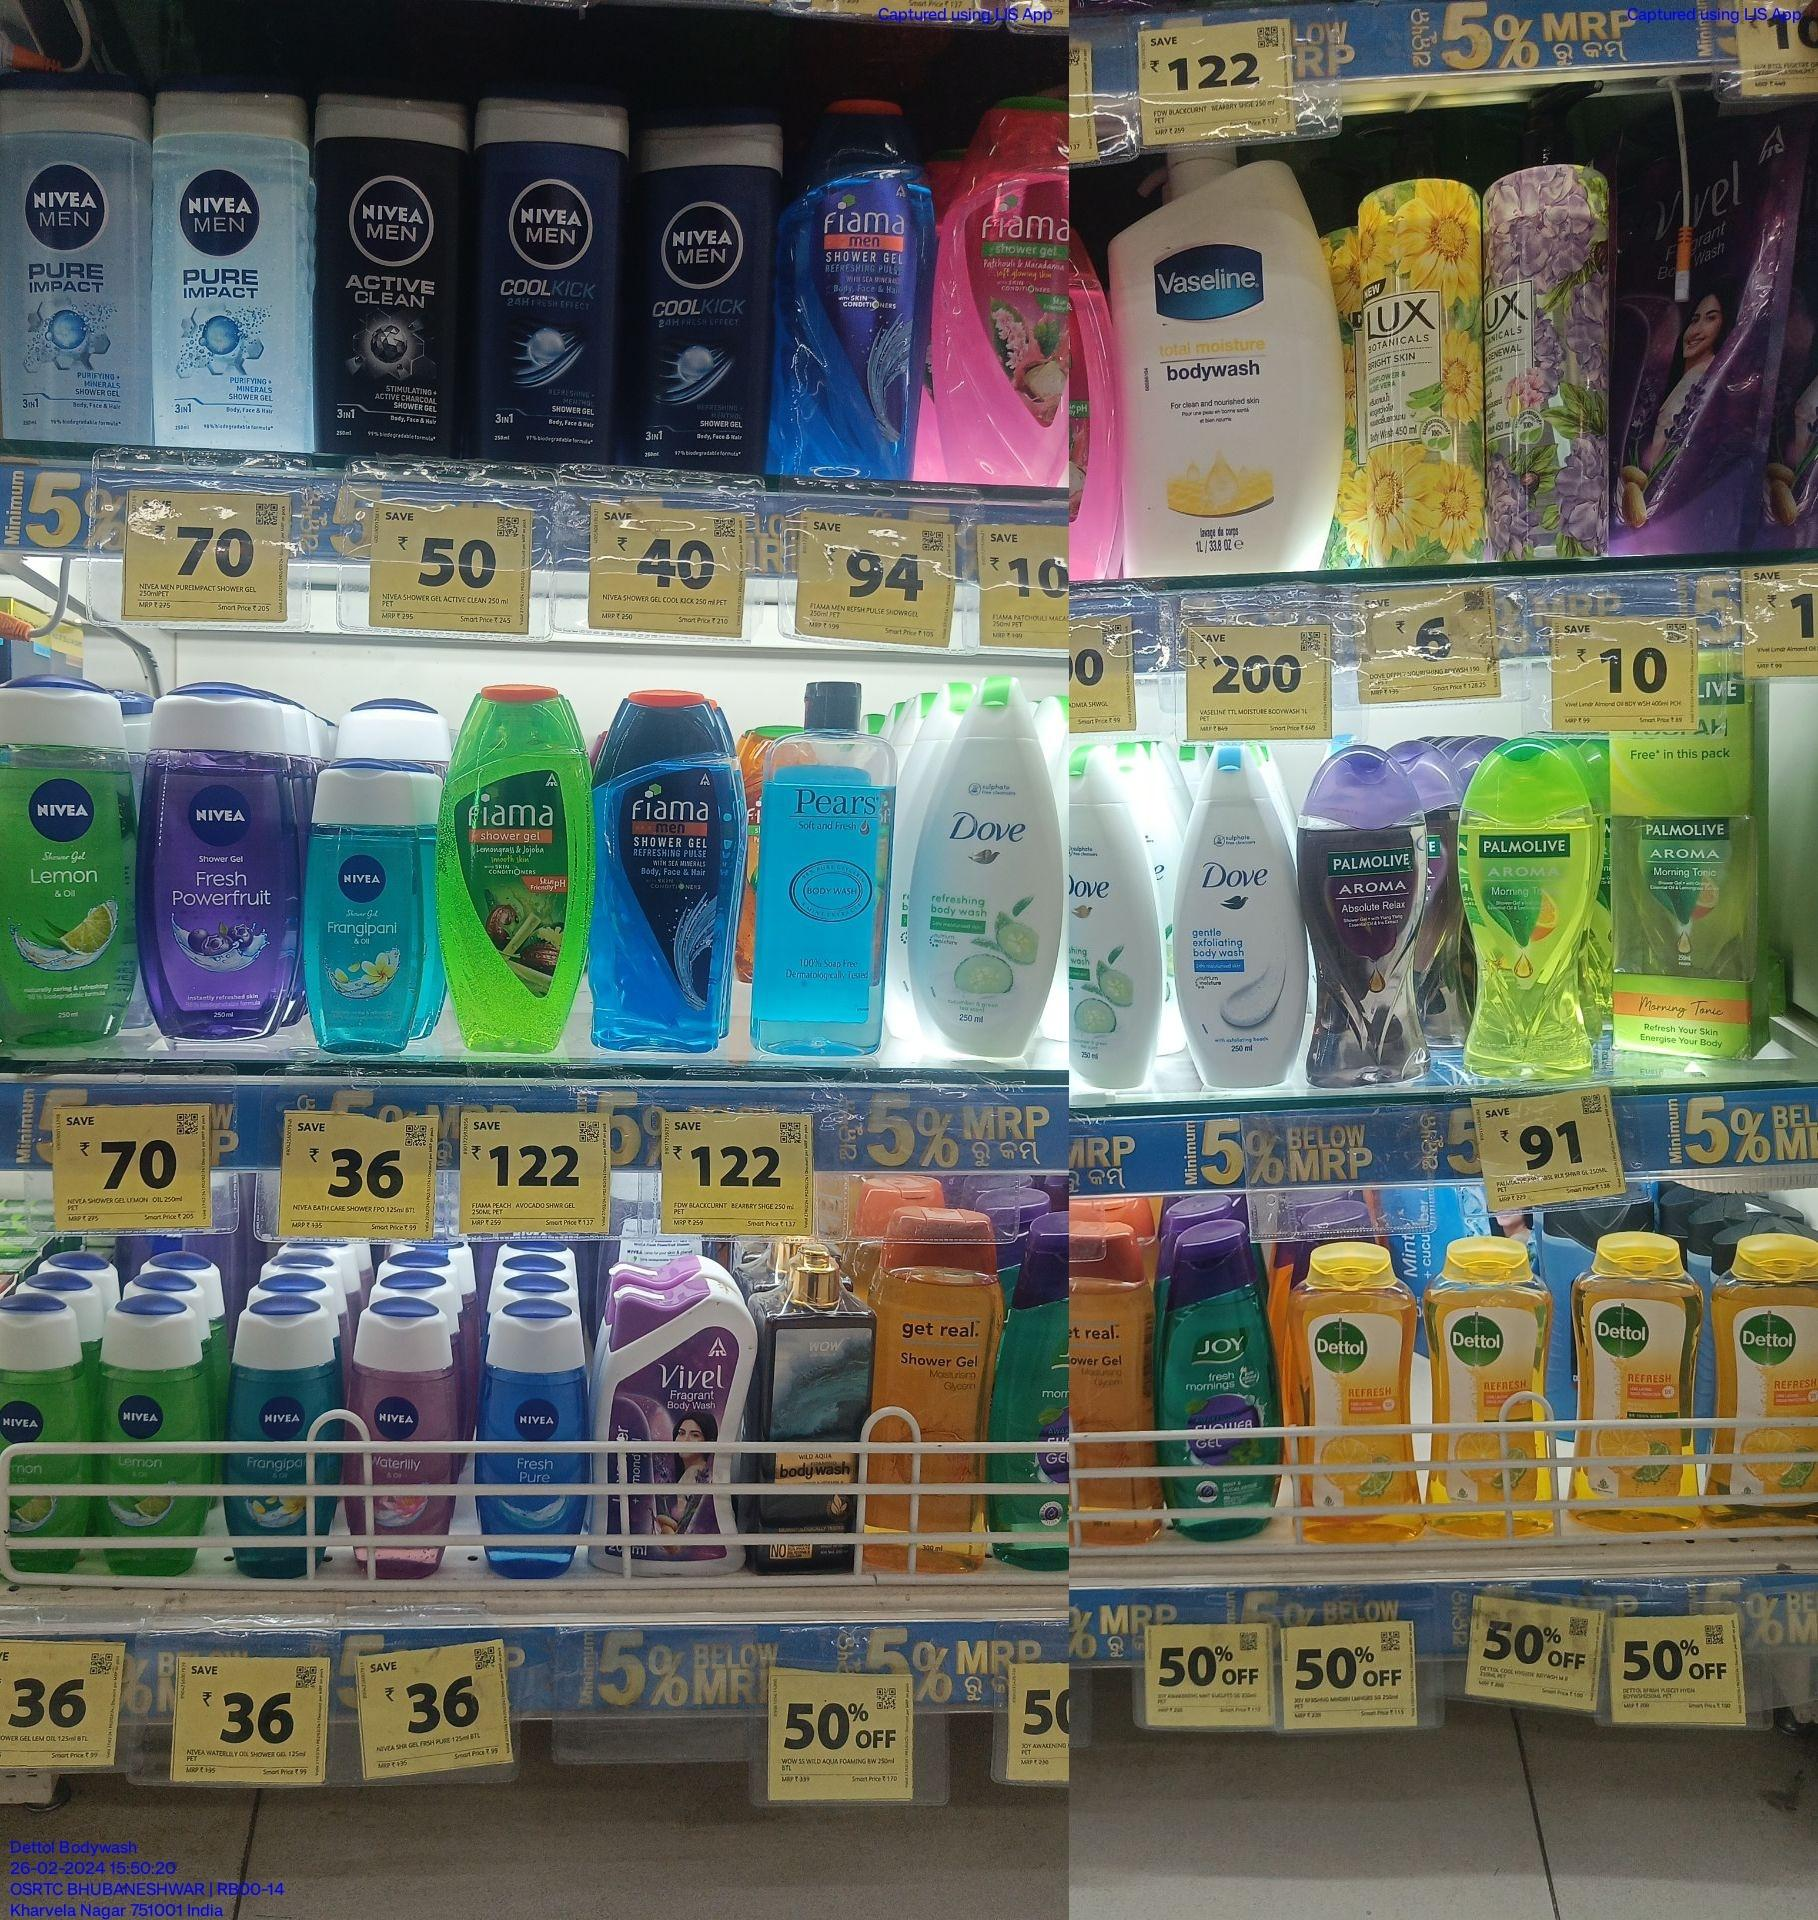Dove_Gentle_Exfoliating_Body_Wash_250ML: (1176, 741, 1300, 1090)
Dove_Refreshing_Body_Wash_250ML: (919, 675, 1049, 1057), (1070, 743, 1164, 1092)
Fiama_Shower_Gel_Lemongrass_and_Jojoba_250ML: (443, 680, 588, 1057)
Fiama_Shower_Gel_Patchouli_and_Macadamia_250ML: (931, 84, 1076, 490)
Nivea_Shower_Gel_Frangipani_and_Oil_250ML: (304, 764, 434, 1056)
Nivea_Shower_Gel_Fresh_Powerfruit_250ML: (149, 671, 289, 1045)
Nivea_Shower_Gel_Lemon_and_Oil_250ML: (0, 673, 133, 1061)
